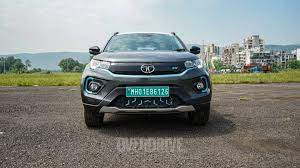Tata Nexon: (80, 28, 213, 131)
